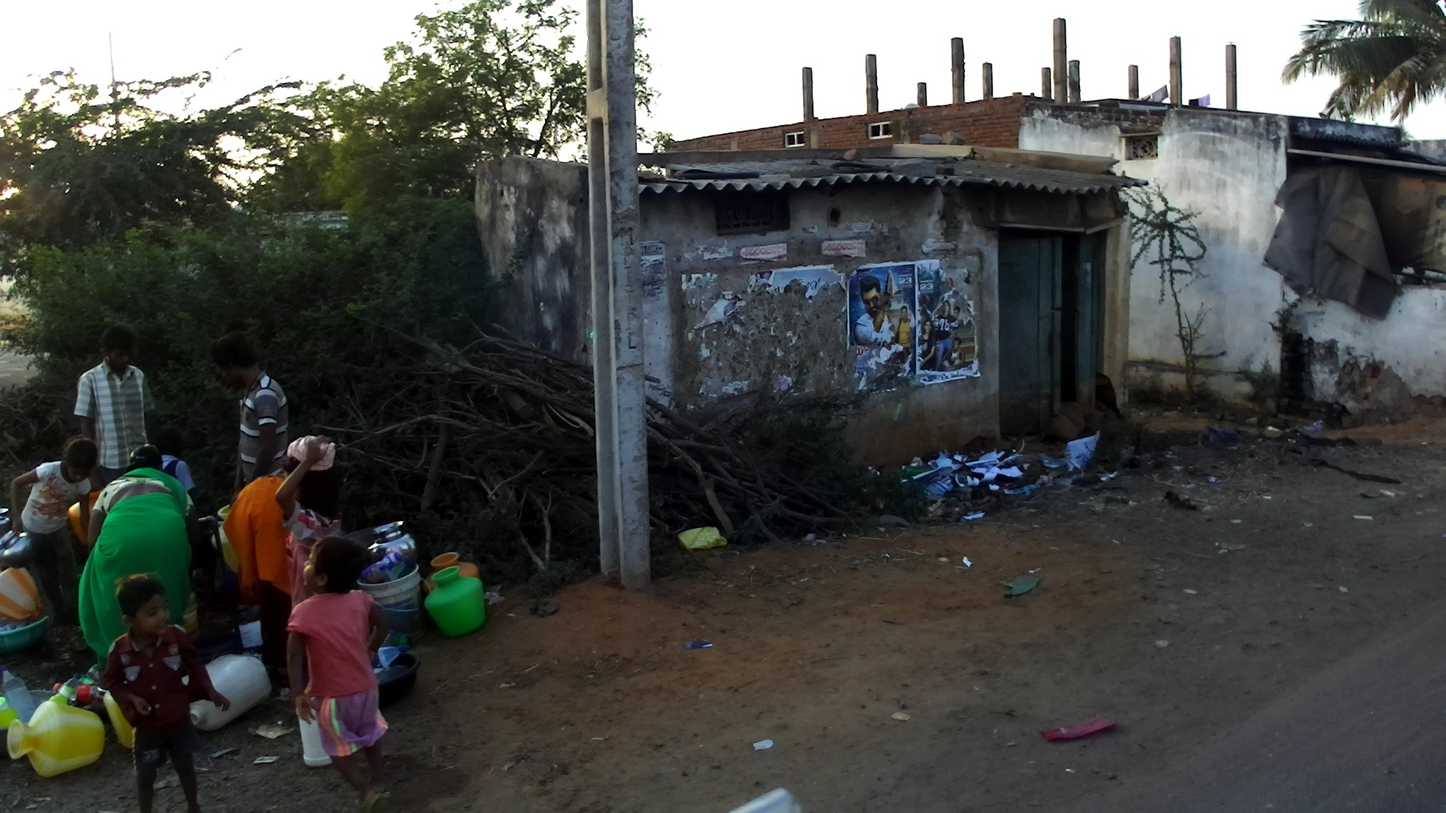person: (102, 575, 231, 813), (285, 534, 392, 813), (78, 446, 194, 666), (10, 434, 99, 640), (223, 473, 299, 700), (209, 333, 290, 510), (73, 325, 157, 494), (276, 436, 342, 614), (149, 425, 207, 583)
